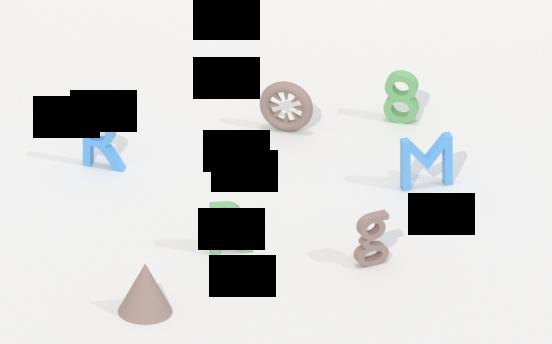8: (382, 64, 423, 129)
M-hoa: (391, 130, 462, 198)
R-hoa: (72, 107, 131, 180), (207, 197, 254, 258)
g: (351, 208, 393, 278)
non: (116, 257, 171, 327)
tron: (261, 78, 316, 131)
